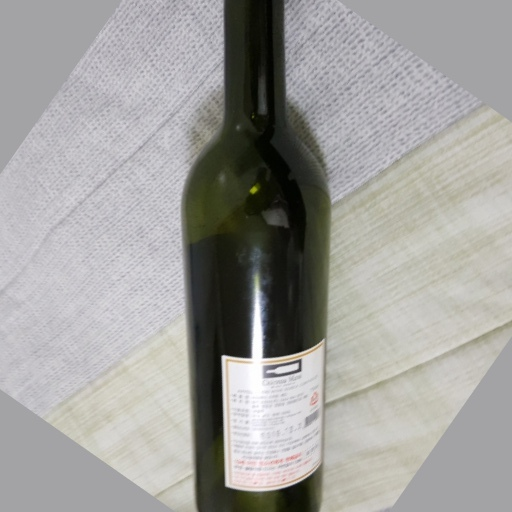Glass_2: (176, 3, 332, 512)
